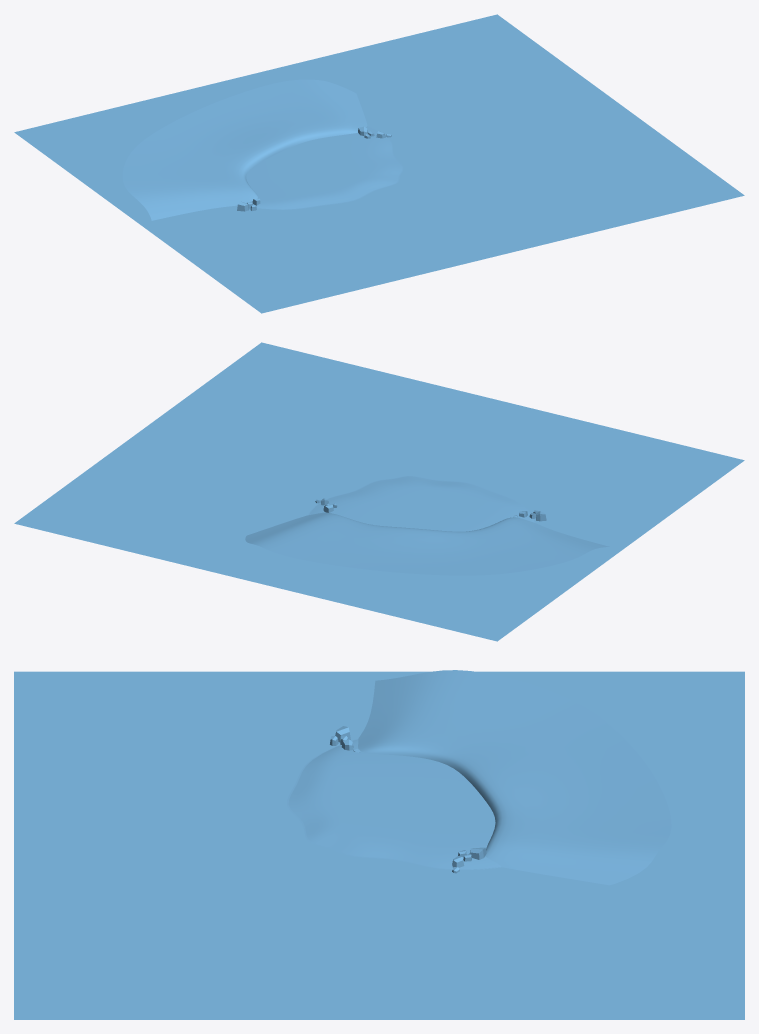
Rendered from Beach.fbx.
The picture shows the model from 3 angles, top to bottom: view 1: azimuth 30°, elevation 25°; view 2: azimuth 150°, elevation 25°; view 3: azimuth 270°, elevation 25°; orthographic projection. The views are drawn at different scales.
Parts seen in each view (by area): view 1: Water, Grass, Sand; view 2: Water, Grass, Sand; view 3: Water, Grass, Sand.
Boxes of the visible parts, left/top/right/bottom form: Water: left=14, top=14, right=744, bottom=313; Grass: left=122, top=79, right=367, bottom=220; Sand: left=245, top=126, right=402, bottom=209; Water: left=14, top=342, right=744, bottom=641; Grass: left=245, top=512, right=609, bottom=575; Sand: left=308, top=476, right=534, bottom=531; Water: left=14, top=671, right=744, bottom=1019; Grass: left=358, top=670, right=671, bottom=885; Sand: left=288, top=739, right=502, bottom=869.
Size of the model in its own units: 20675 by 833 by 18344.
